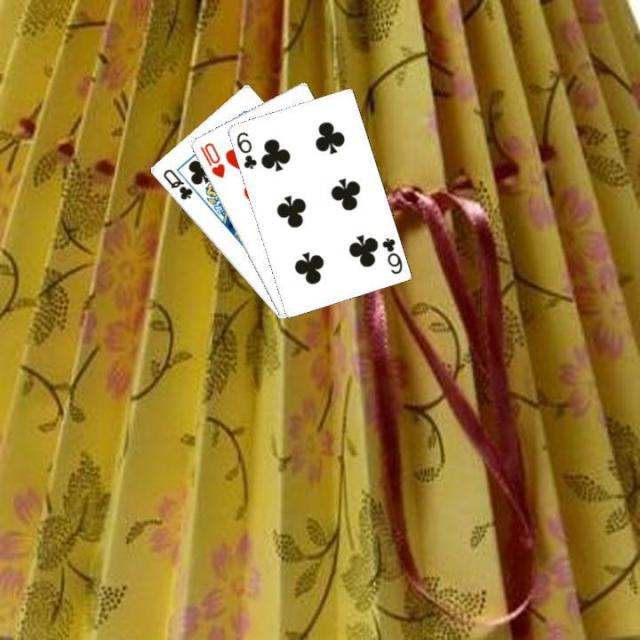10H: (196, 138, 227, 180)
6C: (232, 128, 259, 171), (378, 233, 403, 275)
QC: (158, 164, 195, 202)
